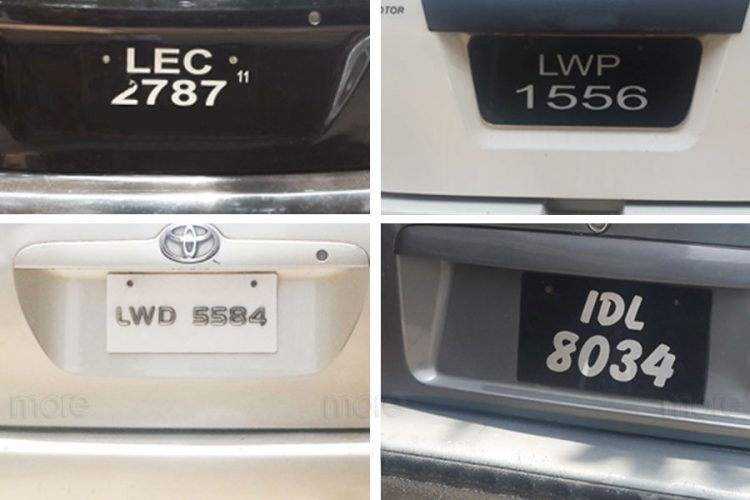Number Plate (Car): (509, 270, 712, 405), (456, 33, 703, 131), (106, 273, 277, 352), (99, 45, 252, 112)
